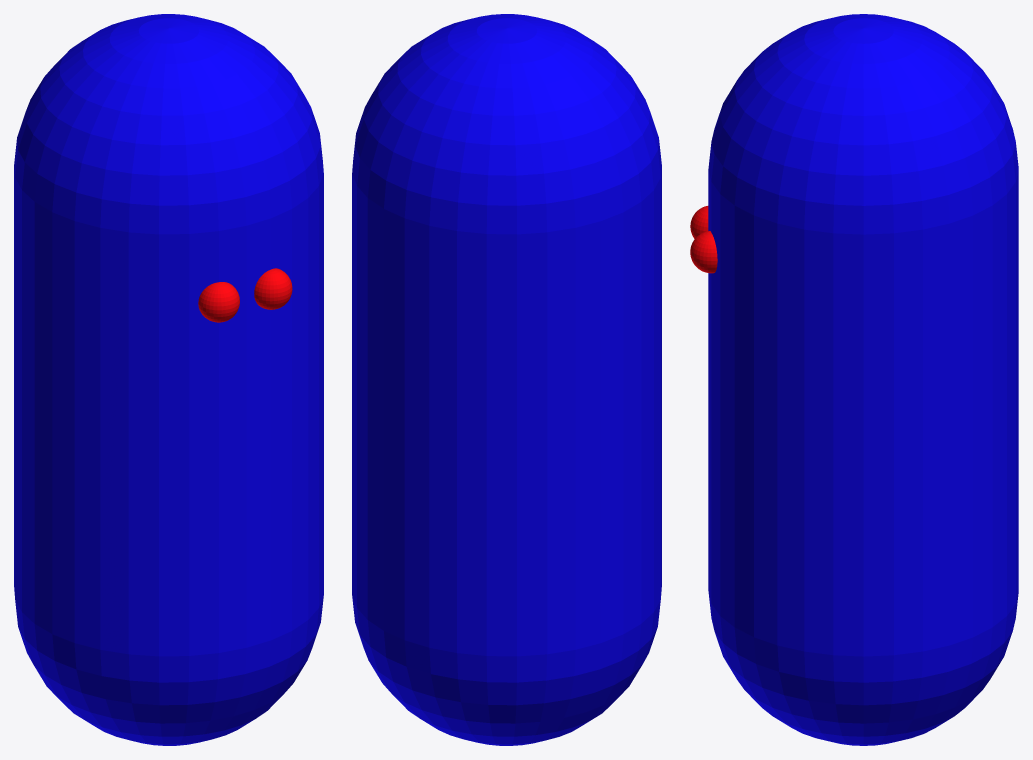
File: CapsuleEnemy.glb
3 renders of one model, left to right at view 1: azimuth 30°, elevation 25°; view 2: azimuth 150°, elevation 25°; view 3: azimuth 270°, elevation 25°, orthographic.
Parts seen in each view (by area): view 1: Sphere, Sphere.001, Sphere.002; view 2: Sphere; view 3: Sphere, Sphere.002.
Boxes of the visible parts, <box> form: Sphere: <box>14,14,323,745</box>; Sphere.001: <box>198,282,239,322</box>; Sphere.002: <box>254,268,292,309</box>; Sphere: <box>352,14,661,745</box>; Sphere: <box>708,14,1018,745</box>; Sphere.002: <box>690,231,717,273</box>.
Bounding box in the file's own units: 2 × 5 × 2.12.
Materials: 2 (2 with a texture image).
